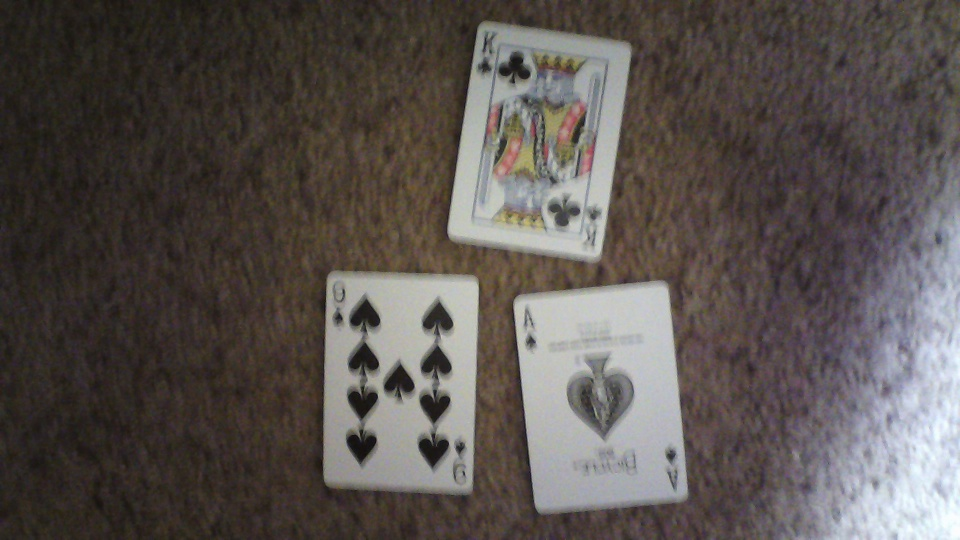ace: (512, 279, 694, 513)
king: (446, 19, 632, 262)
nine: (317, 271, 481, 496)
